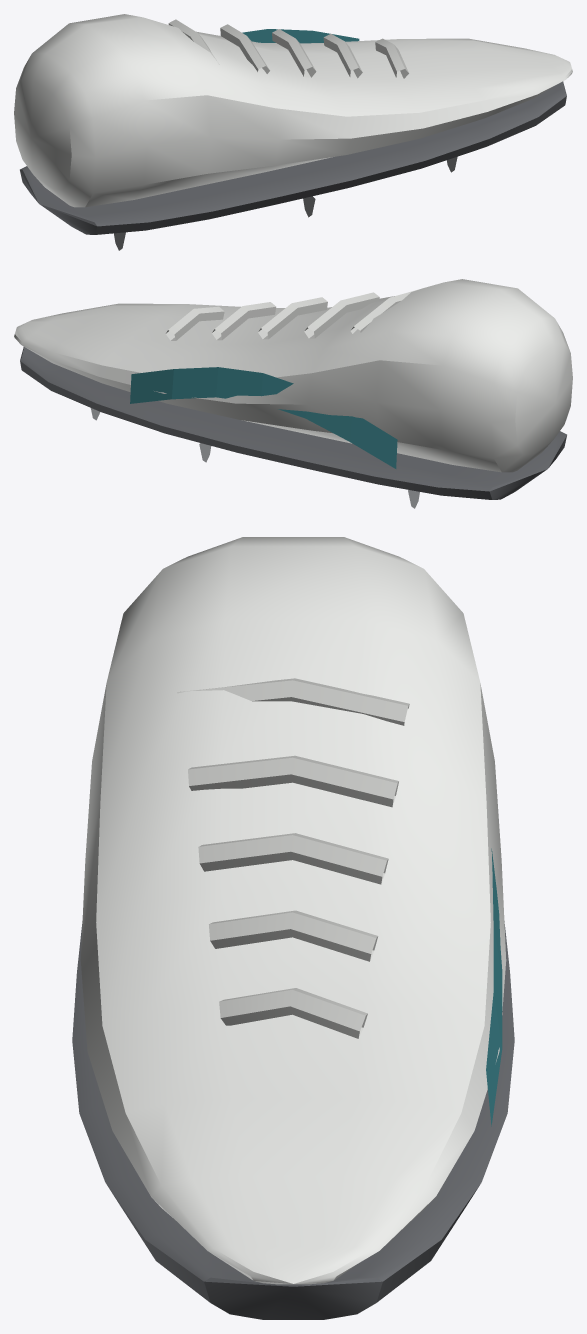
File: SM_C26_Shoe_R.fbx
3 renders of one model, top to bottom at view 1: azimuth 30°, elevation 25°; view 2: azimuth 150°, elevation 25°; view 3: azimuth 270°, elevation 25°, orthographic. The views are drawn at different scales.
Parts seen in each view (by area): view 1: SM_C26_Shoe_R; view 2: SM_C26_Shoe_R; view 3: SM_C26_Shoe_R.
Part boxes in pixels (left/top/right/bottom): SM_C26_Shoe_R: left=14, top=14, right=572, bottom=250; SM_C26_Shoe_R: left=14, top=279, right=572, bottom=508; SM_C26_Shoe_R: left=72, top=537, right=514, bottom=1319.
Size of the model in its own units: 27.5 by 9.78 by 9.48.
